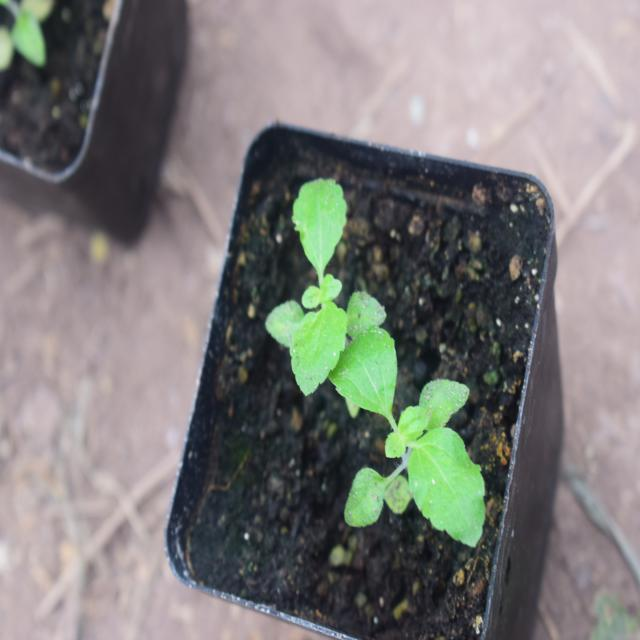billygoat_weed: (340, 294, 491, 547), (247, 155, 361, 401)
